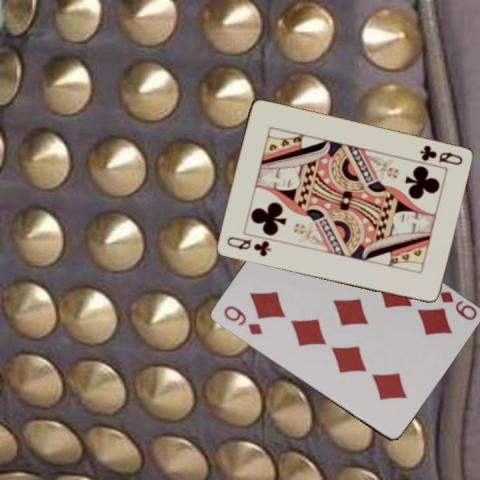9d: (220, 302, 264, 336), (436, 288, 479, 322)
Qc: (223, 234, 273, 258), (417, 142, 464, 167)
